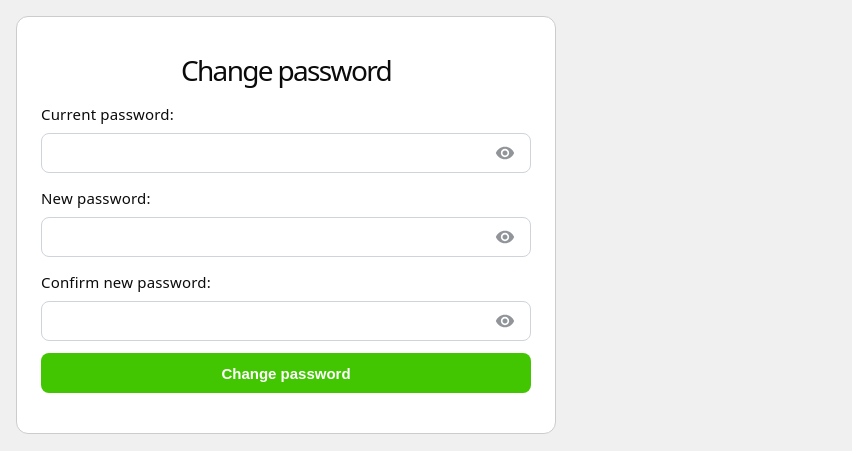
shows validation message for weak new password
Type "weak" into the password field with test id "new-password-input" at (286, 237), box [41,217,531,257]
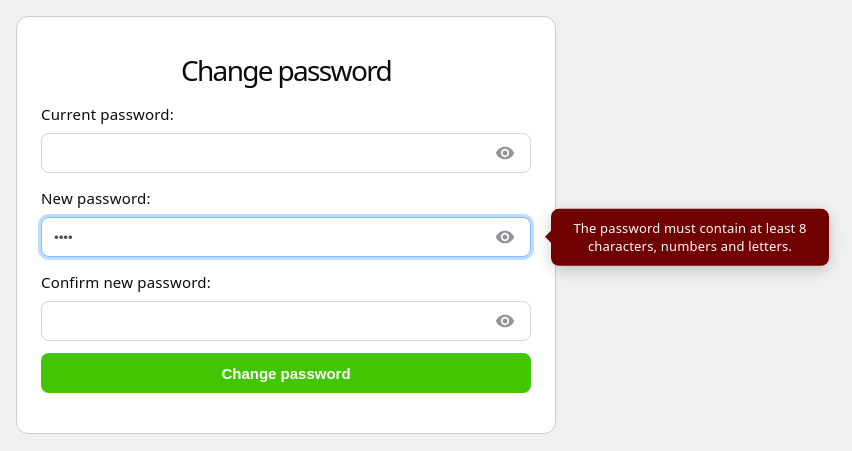
Expected: the text "The password must contain at least 8 characters, numbers and letters." is shown, [551,209,829,266]
